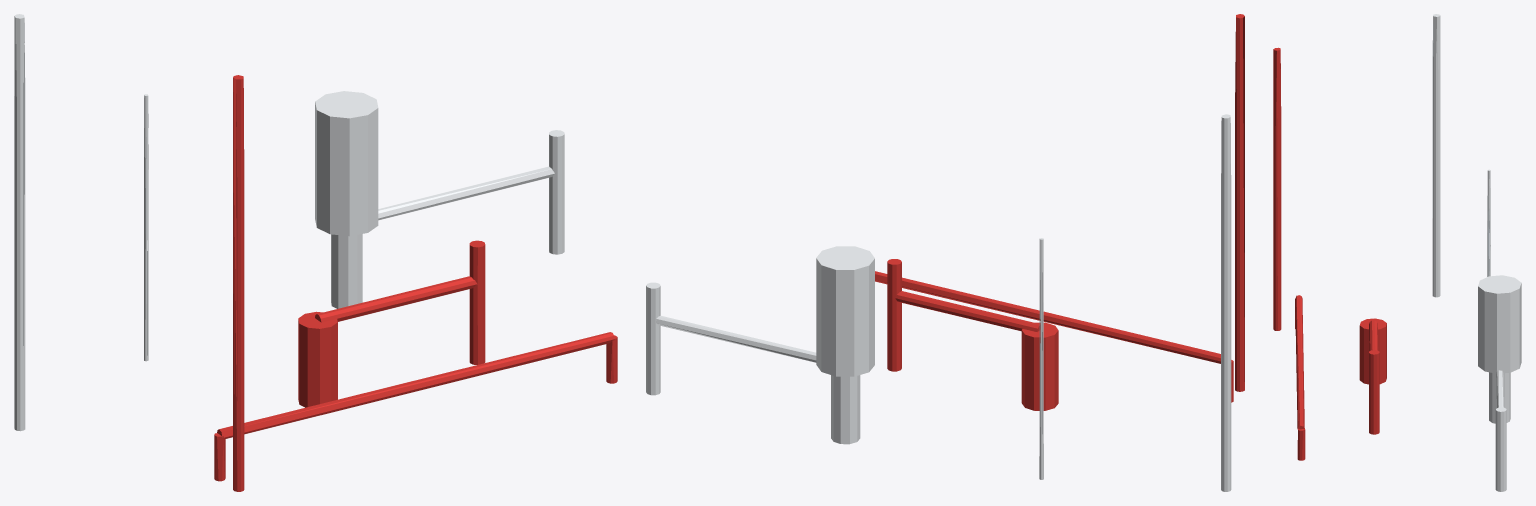
Rendered from FuelPipes_LOD1.gltf.
3 views of the same model, side by side, from view 1: azimuth 30°, elevation 25°; view 2: azimuth 150°, elevation 25°; view 3: azimuth 270°, elevation 25° (orthographic). The views are drawn at different scales.
Parts seen in each view (by area): view 1: node6, node5, node4; view 2: node6, node5; view 3: node6, node5, node4.
Part boxes in pixels (x1,y1,x2,y2): node6: (14,14,564,431); node5: (214,75,617,491); node4: (23,23,148,355); node6: (646,114,1231,491); node5: (875,14,1244,410); node6: (1432,14,1521,491); node5: (1273,47,1386,460); node4: (1432,24,1490,276).
Bounding box in the file's own units: 4.24 × 2.8 × 2.25.
